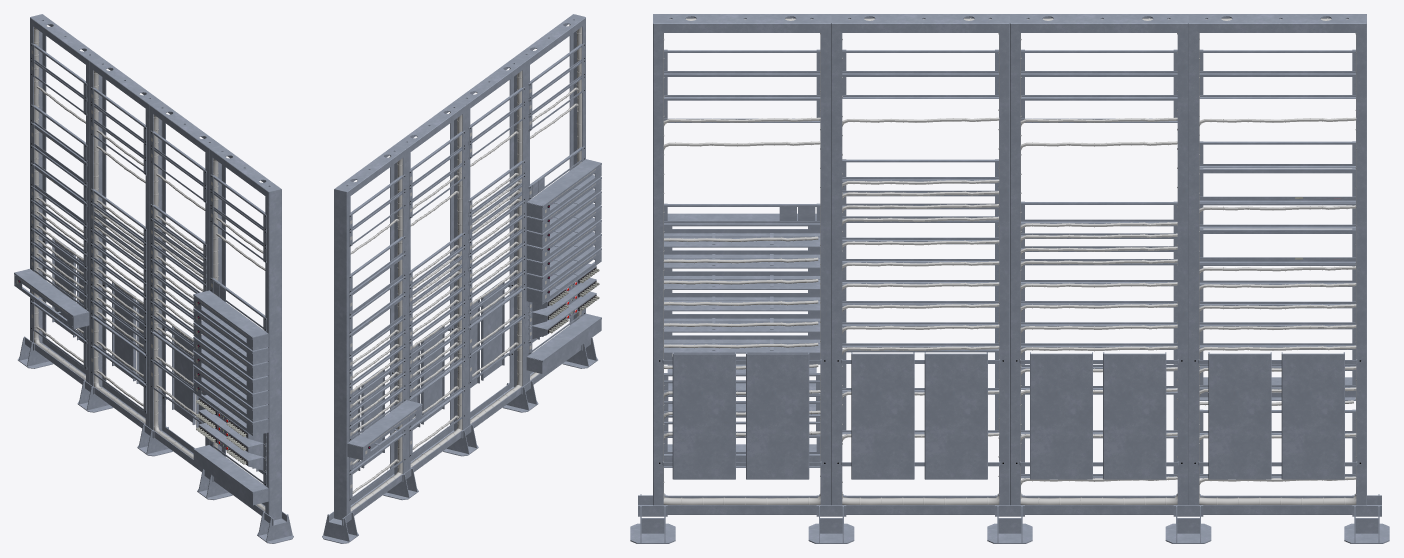
File: SM_Dask.FBX
The picture shows the model from 3 angles, left to right: view 1: azimuth 30°, elevation 25°; view 2: azimuth 150°, elevation 25°; view 3: azimuth 270°, elevation 25°; orthographic projection. The views are drawn at different scales.
Parts seen in each view (by area): view 1: SM_Dask; view 2: SM_Dask; view 3: SM_Dask.
Boxes of the visible parts, <box> form: SM_Dask: <box>14,14,293,543</box>; SM_Dask: <box>322,14,601,543</box>; SM_Dask: <box>630,14,1389,543</box>.
Bounding box in the file's own units: 29.86 × 250 × 334.
